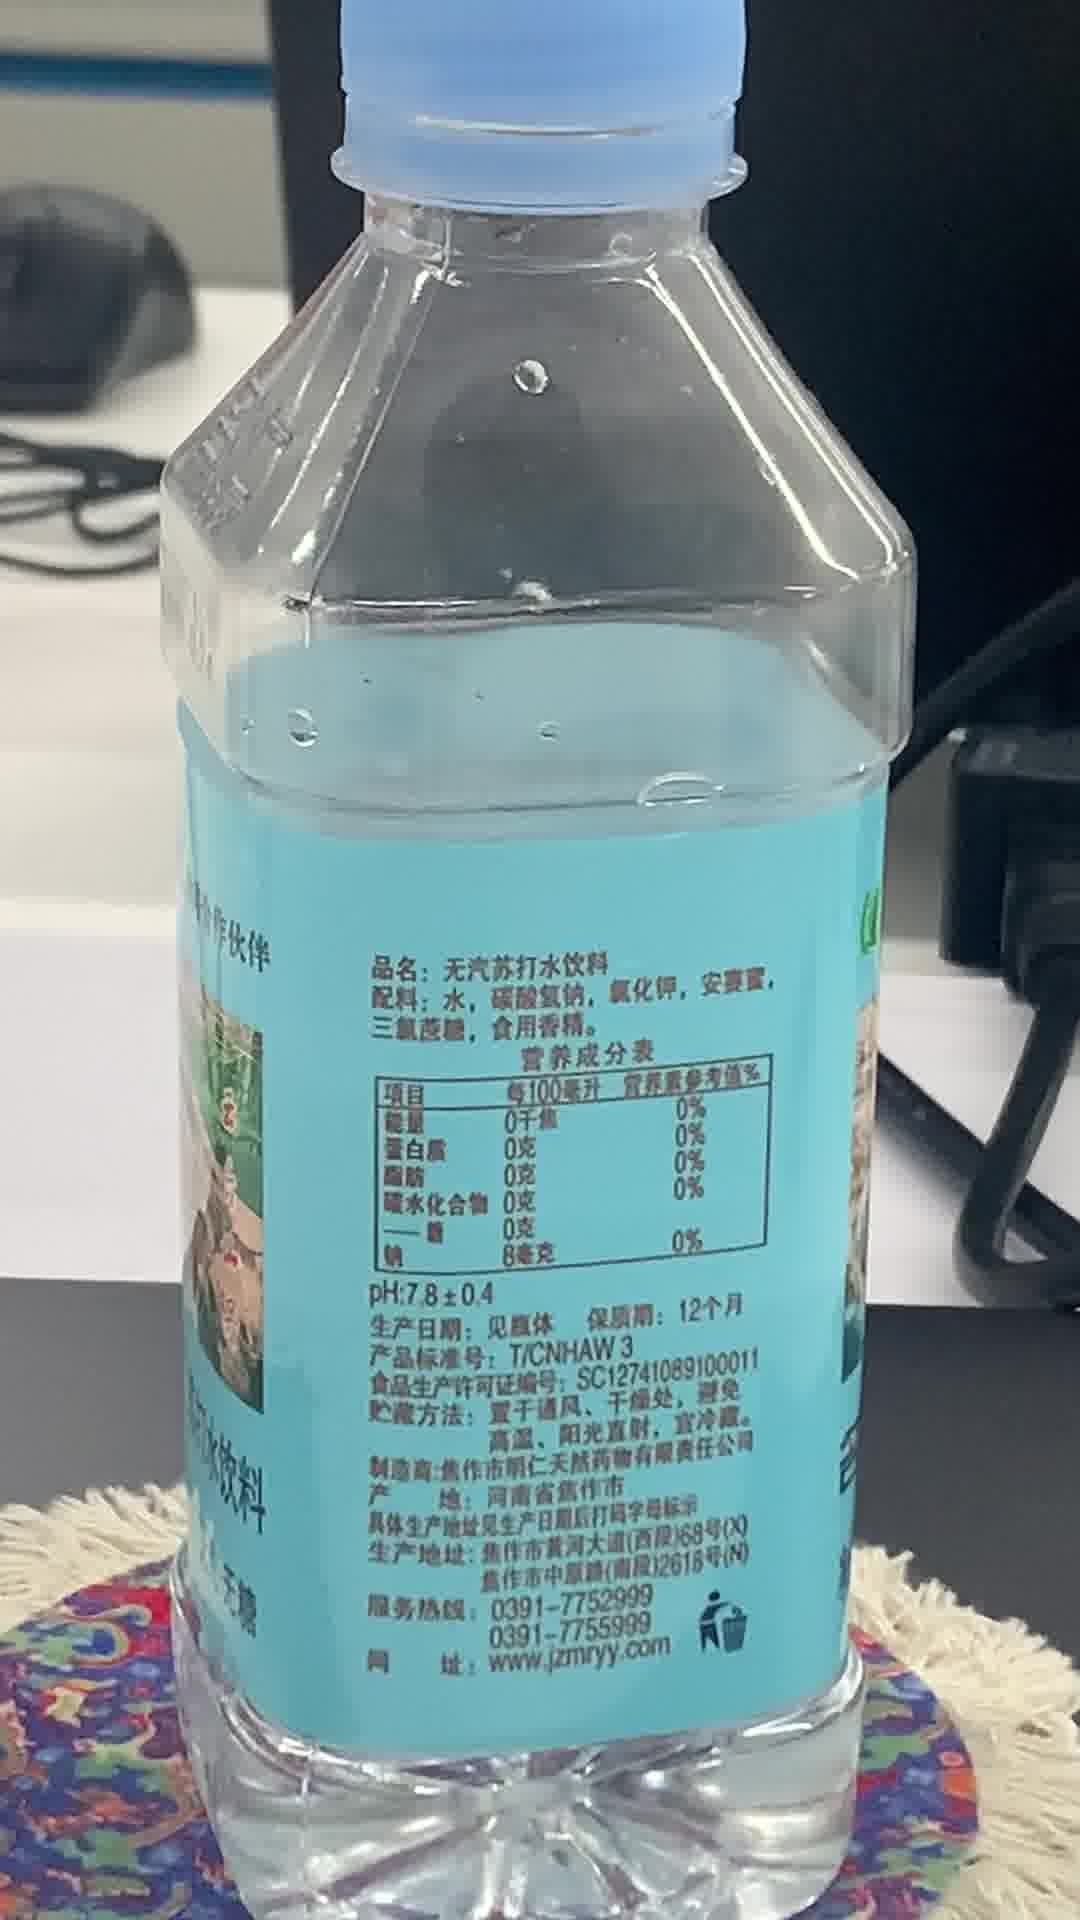水瓶: (133, 9, 878, 1730)
